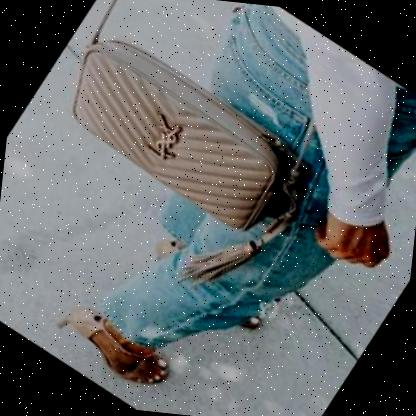bag: (44, 22, 326, 247)
